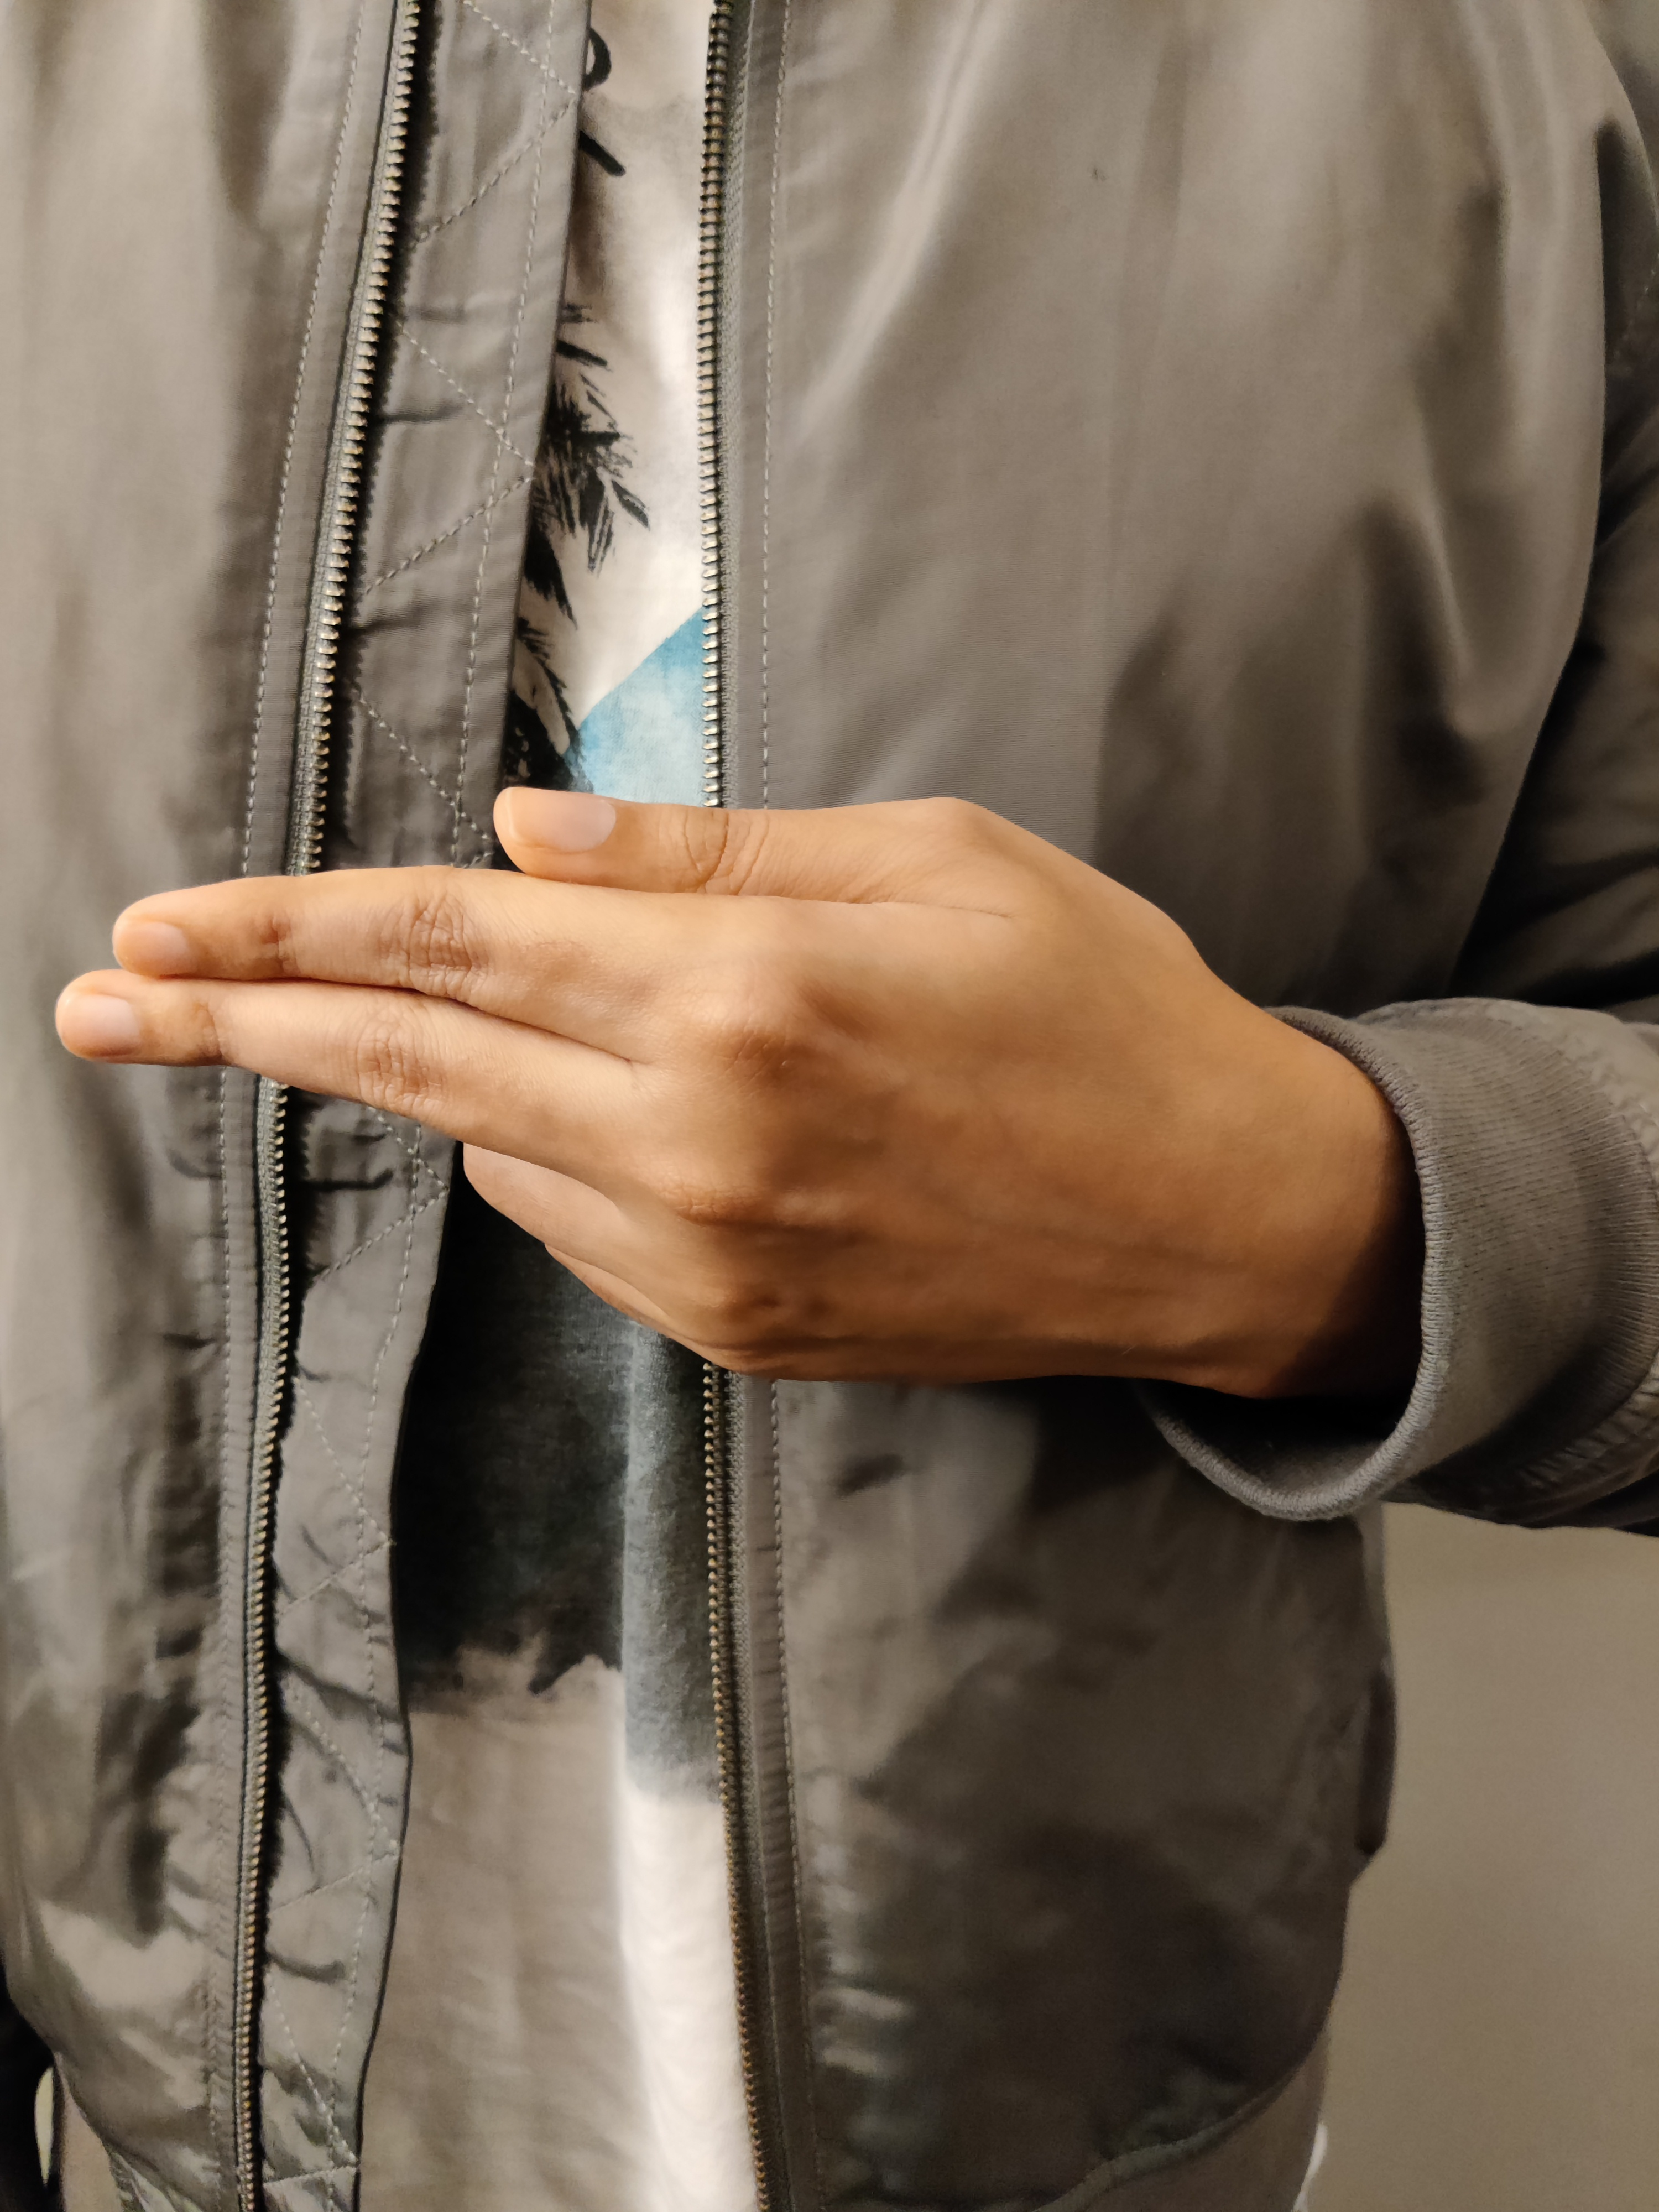right: (31, 610, 1563, 1686)
